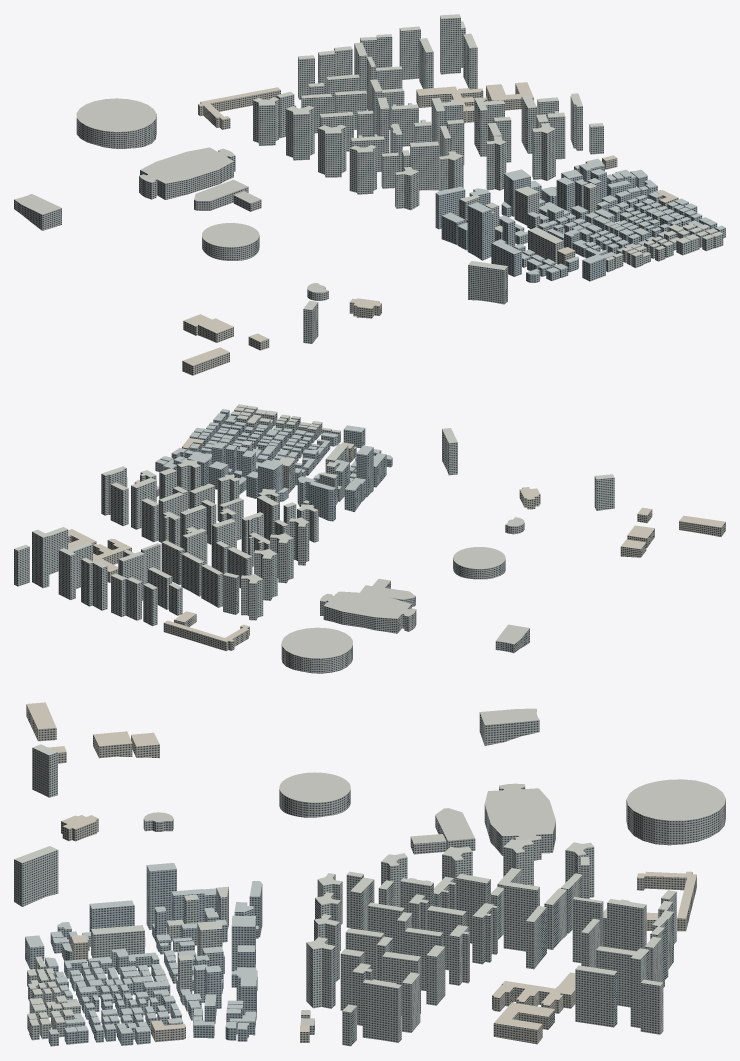
Rendered from city_5_3.glb.
3 views of the same model, one above another, from view 1: azimuth 30°, elevation 25°; view 2: azimuth 150°, elevation 25°; view 3: azimuth 270°, elevation 25° (orthographic). The views are drawn at different scales.
Size of the model in its own units: 959 by 100 by 874.
Materials: 4 (4 with a texture image).
